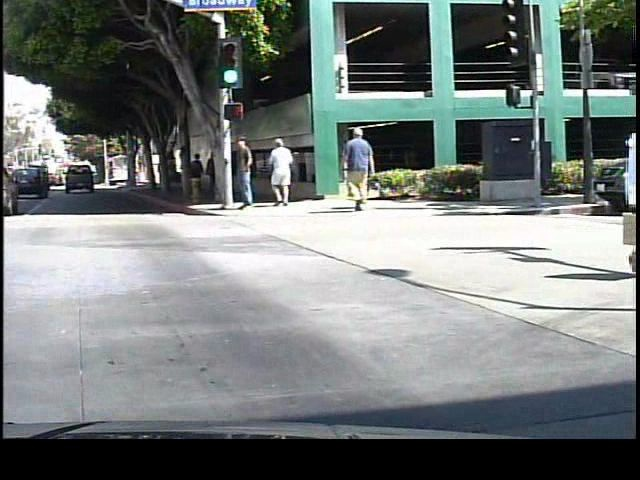person: (340, 122, 381, 212), (230, 131, 259, 215), (266, 134, 295, 208), (188, 149, 204, 197)
